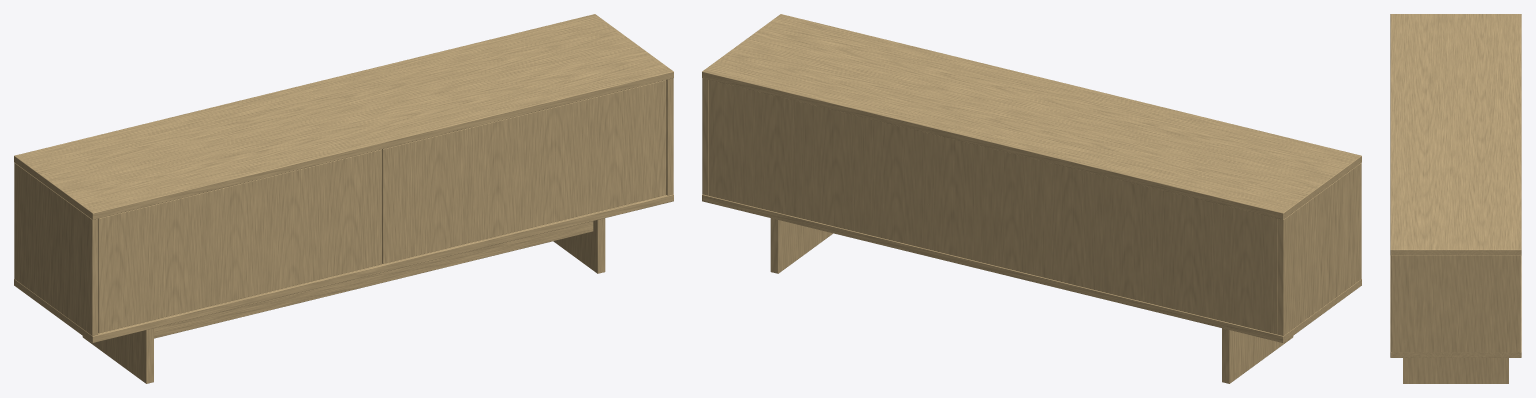
Rendered from tv_shelves.glb.
3 renders of one model, left to right at view 1: azimuth 30°, elevation 25°; view 2: azimuth 150°, elevation 25°; view 3: azimuth 270°, elevation 25°, orthographic. The views are drawn at different scales.
Parts seen in each view (by area): view 1: TVC_Top_board_GLB, TVC_Closed_front_panel_2_GLB, TVC_Closed_front_panel_1_GLB, TVC_Left_side_GLB, TVC_Bottom_board_GLB, TVC_Lower_cross_stretcher_GLB, TVC_Slab_leg_1_GLB, TVC_Slab_leg_2_GLB, TVC_Right_side_GLB; view 2: TVC_Back_board_inferred_GLB, TVC_Top_board_GLB, TVC_Left_side_GLB, TVC_Bottom_board_GLB, TVC_Slab_leg_2_GLB, TVC_Slab_leg_1_GLB, TVC_Right_side_GLB; view 3: TVC_Top_board_GLB, TVC_Right_side_GLB, TVC_Slab_leg_2_GLB, TVC_Bottom_board_GLB.
Part boxes in pixels (left/top/right/bottom): TVC_Top_board_GLB: left=14, top=14, right=673, bottom=219; TVC_Closed_front_panel_2_GLB: left=382, top=80, right=666, bottom=263; TVC_Closed_front_panel_1_GLB: left=98, top=149, right=382, bottom=333; TVC_Left_side_GLB: left=14, top=163, right=98, bottom=335; TVC_Bottom_board_GLB: left=14, top=194, right=673, bottom=342; TVC_Lower_cross_stretcher_GLB: left=154, top=221, right=593, bottom=338; TVC_Slab_leg_1_GLB: left=82, top=328, right=153, bottom=383; TVC_Slab_leg_2_GLB: left=553, top=218, right=605, bottom=273; TVC_Right_side_GLB: left=666, top=78, right=673, bottom=195; TVC_Back_board_inferred_GLB: left=708, top=80, right=1277, bottom=334; TVC_Top_board_GLB: left=702, top=14, right=1361, bottom=219; TVC_Left_side_GLB: left=1277, top=163, right=1361, bottom=335; TVC_Bottom_board_GLB: left=702, top=194, right=1361, bottom=342; TVC_Slab_leg_2_GLB: left=770, top=218, right=832, bottom=273; TVC_Slab_leg_1_GLB: left=1222, top=328, right=1293, bottom=383; TVC_Right_side_GLB: left=702, top=78, right=708, bottom=195; TVC_Top_board_GLB: left=1390, top=14, right=1521, bottom=255; TVC_Right_side_GLB: left=1391, top=255, right=1520, bottom=352; TVC_Slab_leg_2_GLB: left=1403, top=358, right=1508, bottom=383; TVC_Bottom_board_GLB: left=1390, top=255, right=1521, bottom=357.
Size of the model in its own units: 1.79 by 0.562 by 0.42.
Materials: 10 (10 with a texture image).
